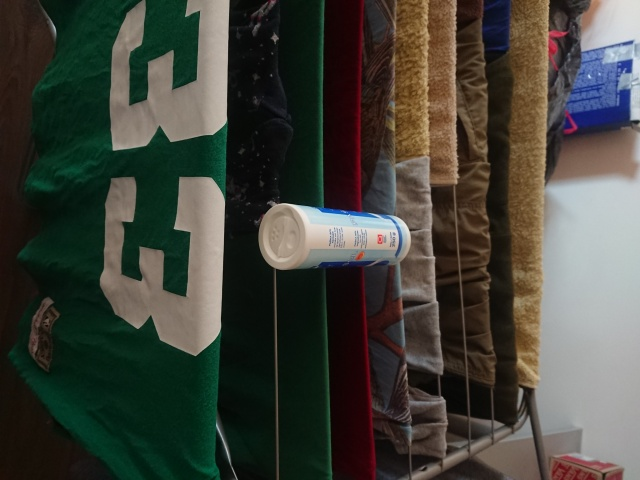Solana Pag Fine Sea Salt 250g: (256, 202, 413, 272)
